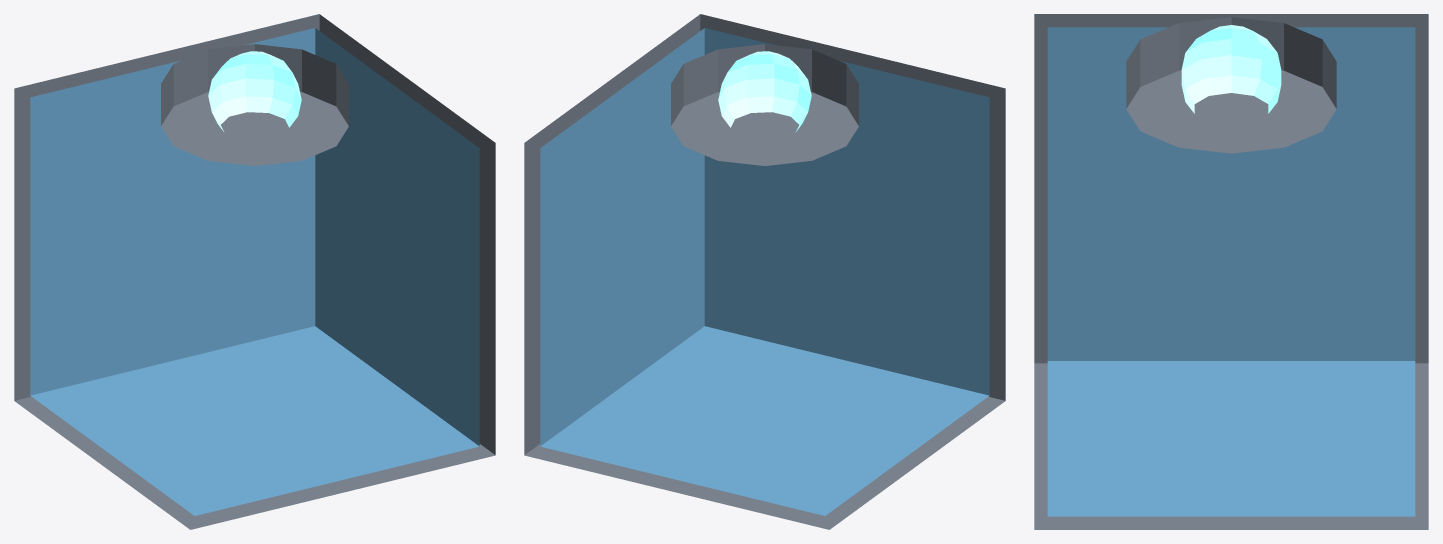
File: deepRecoveryCrateStandard.778ab9b9.glb
3 renders of one model, left to right at view 1: azimuth 30°, elevation 25°; view 2: azimuth 150°, elevation 25°; view 3: azimuth 270°, elevation 25°, orthographic. The views are drawn at different scales.
Visible parts, largest first — view 1: crateHull, crateTrim, crateGlow; view 2: crateHull, crateTrim, crateGlow; view 3: crateHull, crateTrim, crateGlow.
Part boxes in pixels (bbox=[...]): crateHull: bbox=[30, 28, 479, 515]; crateTrim: bbox=[14, 14, 495, 529]; crateGlow: bbox=[208, 51, 301, 132]; crateHull: bbox=[540, 28, 989, 515]; crateTrim: bbox=[524, 14, 1005, 529]; crateGlow: bbox=[718, 51, 811, 132]; crateHull: bbox=[1047, 27, 1415, 516]; crateTrim: bbox=[1034, 14, 1428, 529]; crateGlow: bbox=[1181, 25, 1281, 113].
Size of the model in its own units: 0.9 by 1.05 by 0.9.
